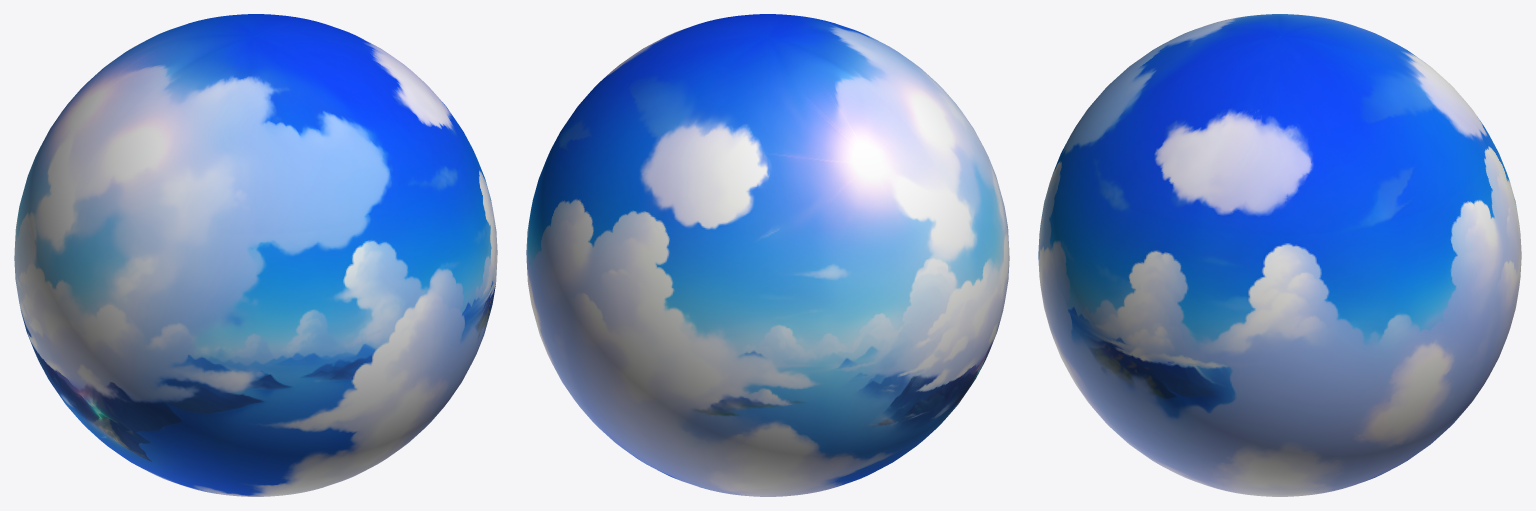
Rendered from sky.obj.
3 renders of one model, left to right at view 1: azimuth 30°, elevation 25°; view 2: azimuth 150°, elevation 25°; view 3: azimuth 270°, elevation 25°, orthographic.
Parts seen in each view (by area): view 1: Sphere; view 2: Sphere; view 3: Sphere.
Part boxes in pixels (x1,y1,x2,y2): Sphere: (14, 14, 497, 496); Sphere: (526, 14, 1009, 496); Sphere: (1038, 14, 1521, 496).
Bounding box in the file's own units: 1000 × 1000 × 1000.
1 material, 1 textured.
